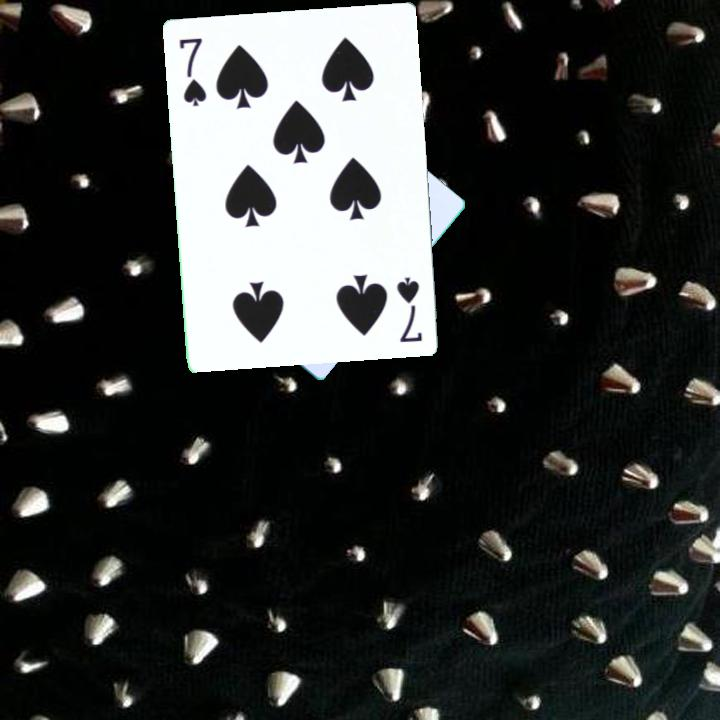7s: (175, 33, 209, 109), (392, 273, 425, 345)
